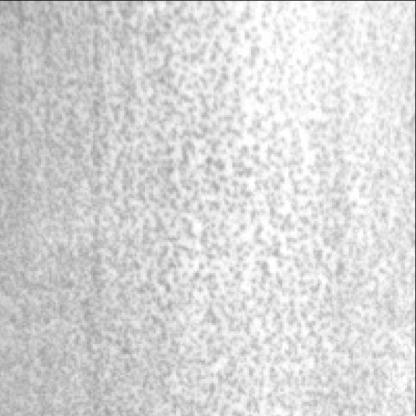pitted_surface: (0, 0, 412, 409)
